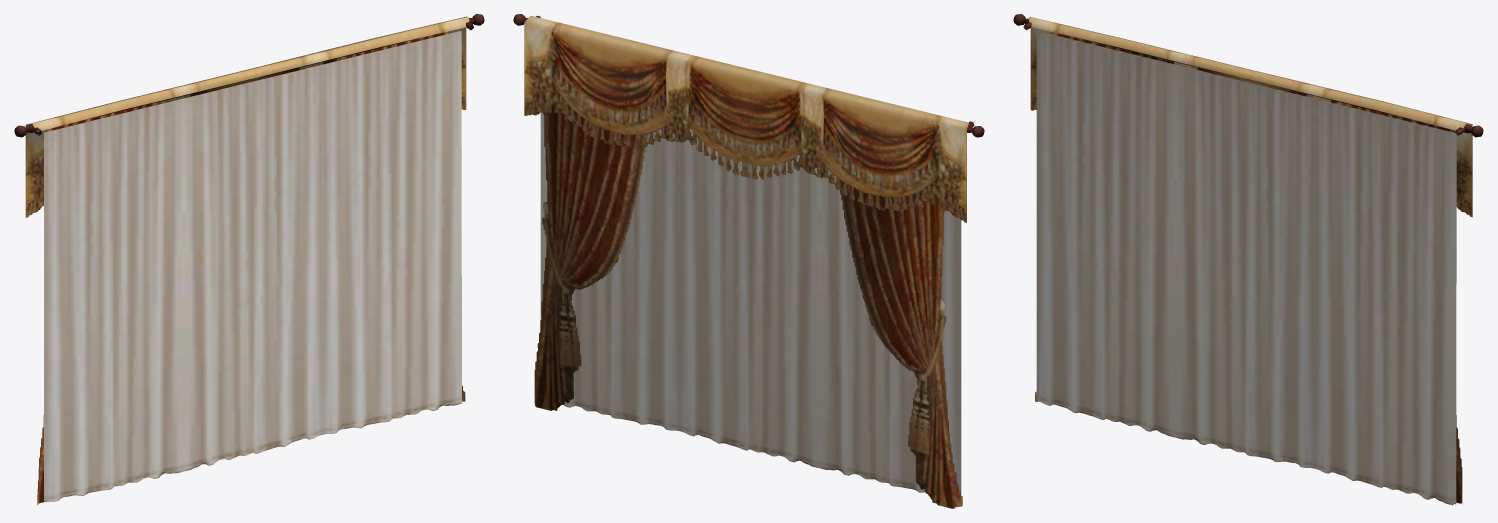
The model's file is furni_0200334.FBX.
3 renders of one model, left to right at view 1: azimuth 30°, elevation 25°; view 2: azimuth 150°, elevation 25°; view 3: azimuth 330°, elevation 25°, orthographic.
Parts seen in each view (by area): view 1: furni_0200334; view 2: furni_0200334; view 3: furni_0200334.
Boxes of the visible parts, bbox=[...] form: furni_0200334: bbox=[14, 14, 484, 504]; furni_0200334: bbox=[513, 14, 984, 508]; furni_0200334: bbox=[1013, 14, 1483, 505].
Size of the model in its own units: 353 by 278 by 14.25.
2 materials, 2 textured.
